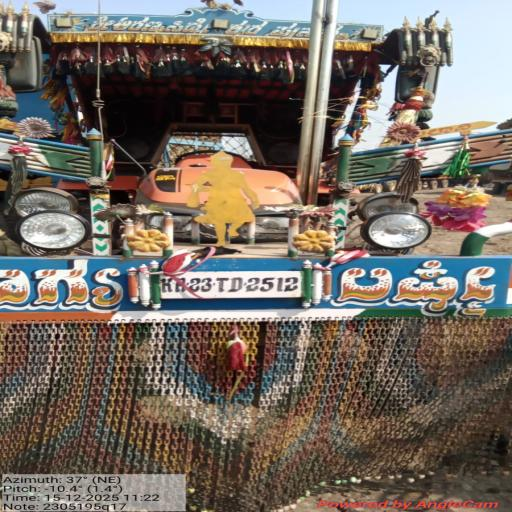number_plate: (180, 272, 301, 298)
